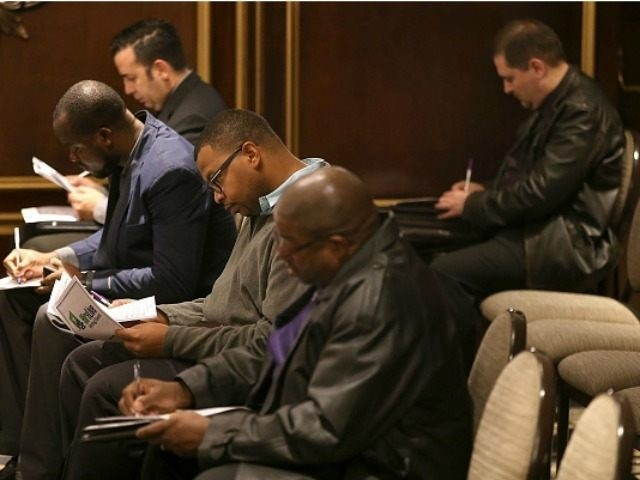face_no_mask: (274, 166, 381, 282), (192, 118, 286, 221), (50, 79, 137, 177), (109, 18, 187, 112), (491, 21, 568, 111)
